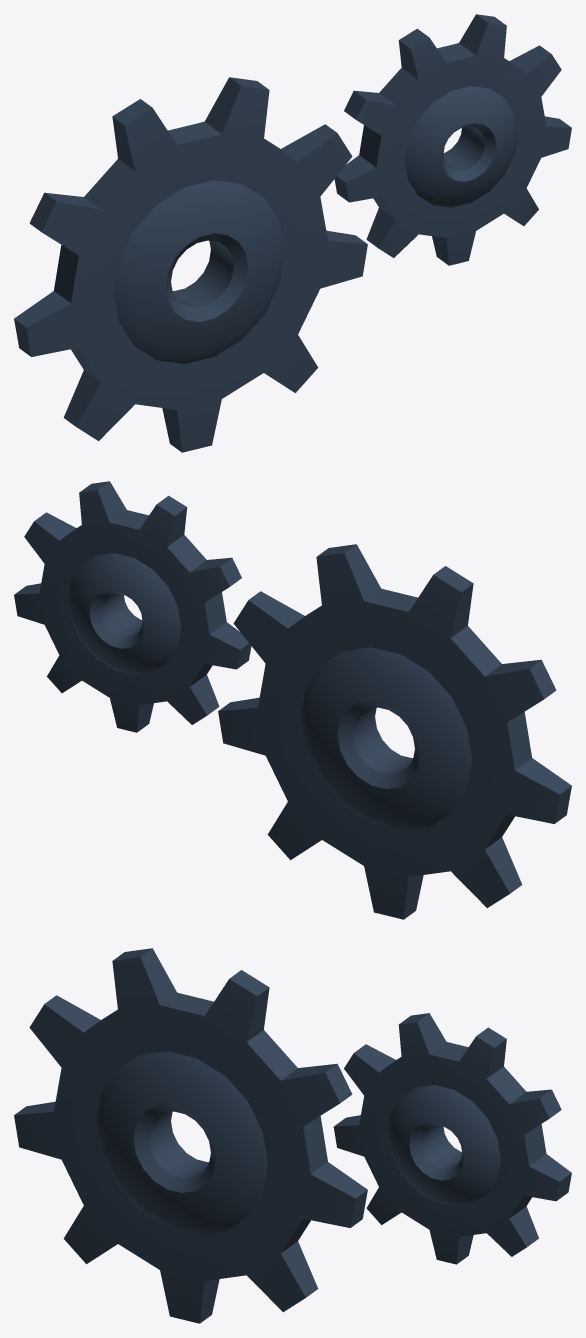
File: Gears.FBX
The picture shows the model from 3 angles, top to bottom: view 1: azimuth 30°, elevation 25°; view 2: azimuth 150°, elevation 25°; view 3: azimuth 330°, elevation 25°; orthographic projection.
Parts seen in each view (by area): view 1: Gear1, Gear2; view 2: Gear1, Gear2; view 3: Gear1, Gear2.
Boxes of the visible parts, left/top/right/bottom form: Gear1: left=14, top=77, right=367, bottom=452; Gear2: left=334, top=14, right=571, bottom=265; Gear1: left=218, top=544, right=571, bottom=919; Gear2: left=14, top=481, right=251, bottom=732; Gear1: left=14, top=948, right=367, bottom=1323; Gear2: left=333, top=1013, right=571, bottom=1264.
Size of the model in its own units: 43.53 by 4.49 by 27.05.
